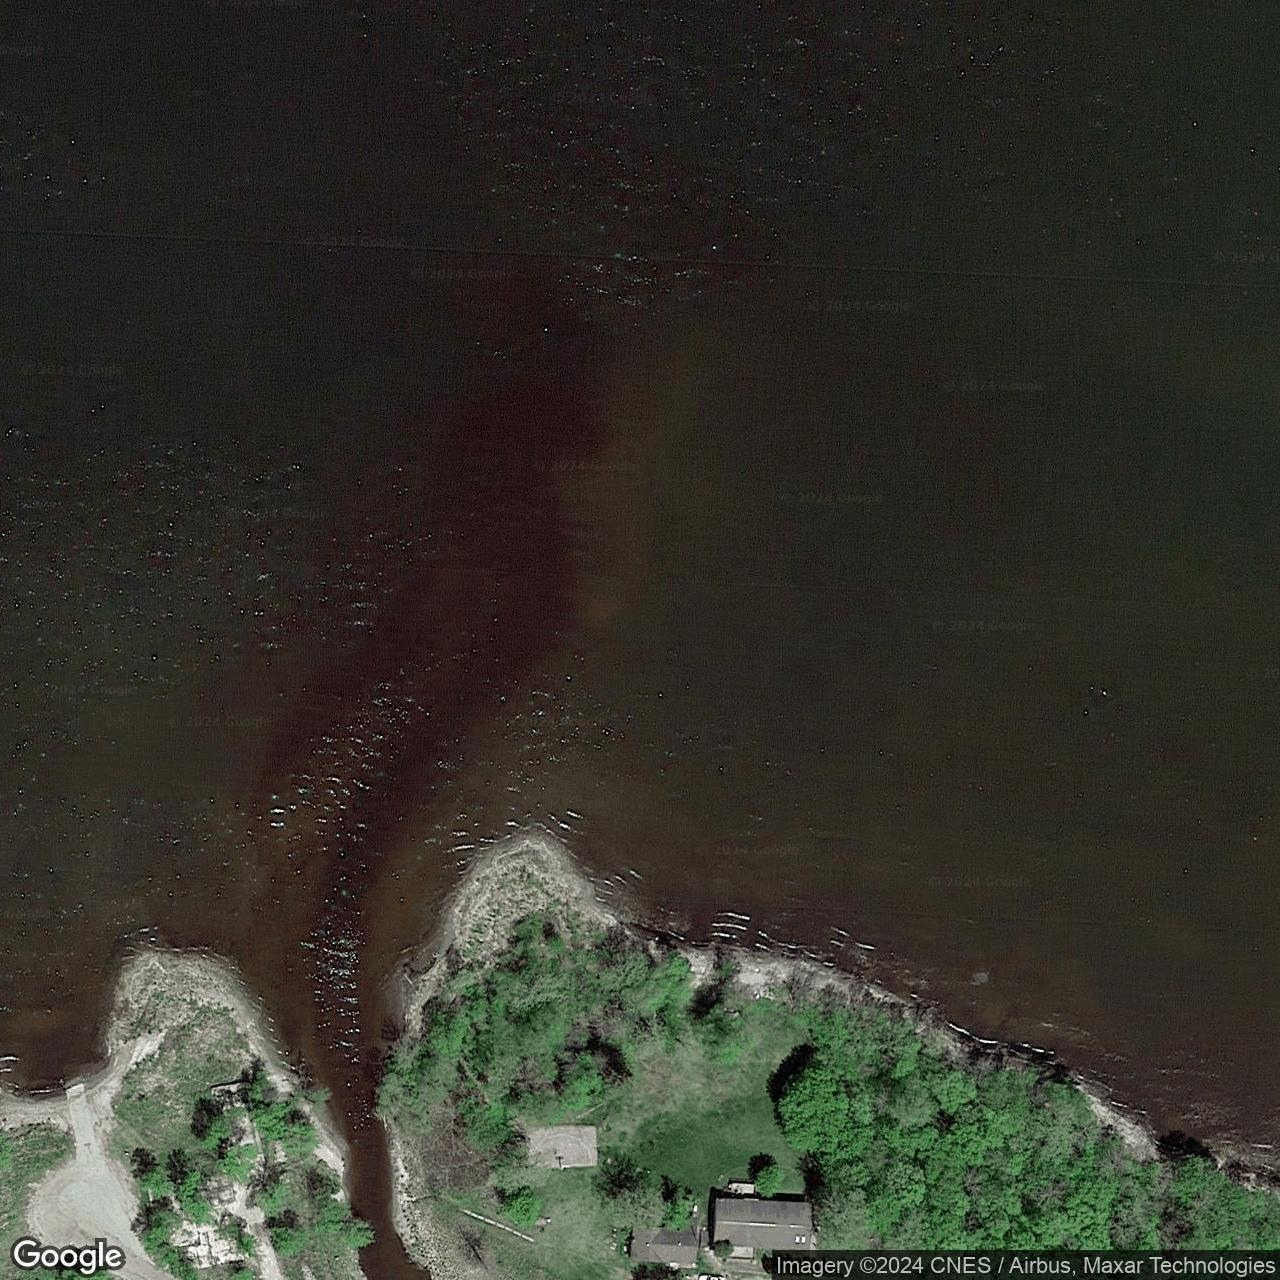House: (714, 1197, 812, 1252), (629, 1221, 700, 1269)
